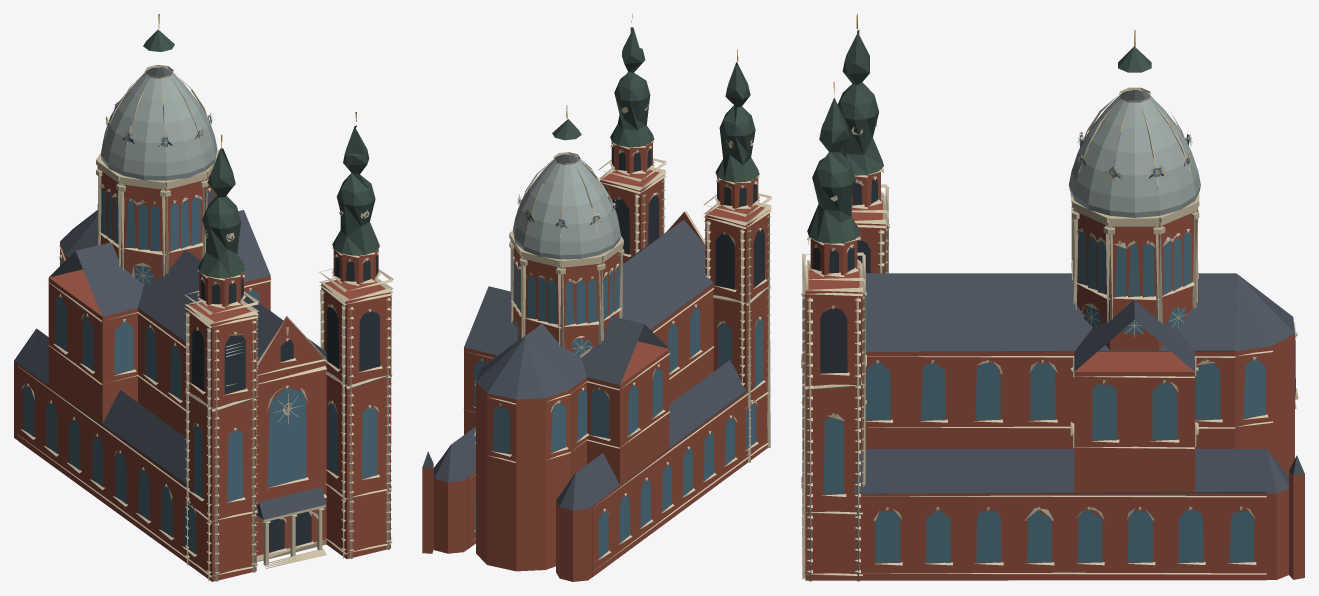
Rendered from sint-nicolaas.lod1.glb.
The picture shows the model from 3 angles, left to right: view 1: azimuth 30°, elevation 25°; view 2: azimuth 150°, elevation 25°; view 3: azimuth 270°, elevation 25°; orthographic projection. The views are drawn at different scales.
Parts seen in each view (by area): view 1: sint-nicolaas; view 2: sint-nicolaas; view 3: sint-nicolaas.
Part boxes in pixels (bbox=[...]): sint-nicolaas: bbox=[14, 14, 393, 581]; sint-nicolaas: bbox=[422, 14, 772, 581]; sint-nicolaas: bbox=[801, 14, 1304, 581].
Bounding box in the file's own units: 23.8 × 58 × 52.58.
